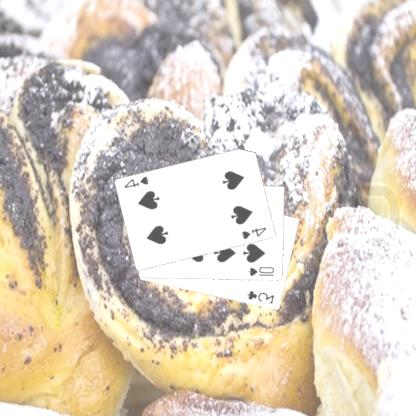10S: (247, 264, 278, 278)
3C: (246, 288, 277, 306)
4S: (240, 225, 270, 241), (123, 174, 153, 190)
